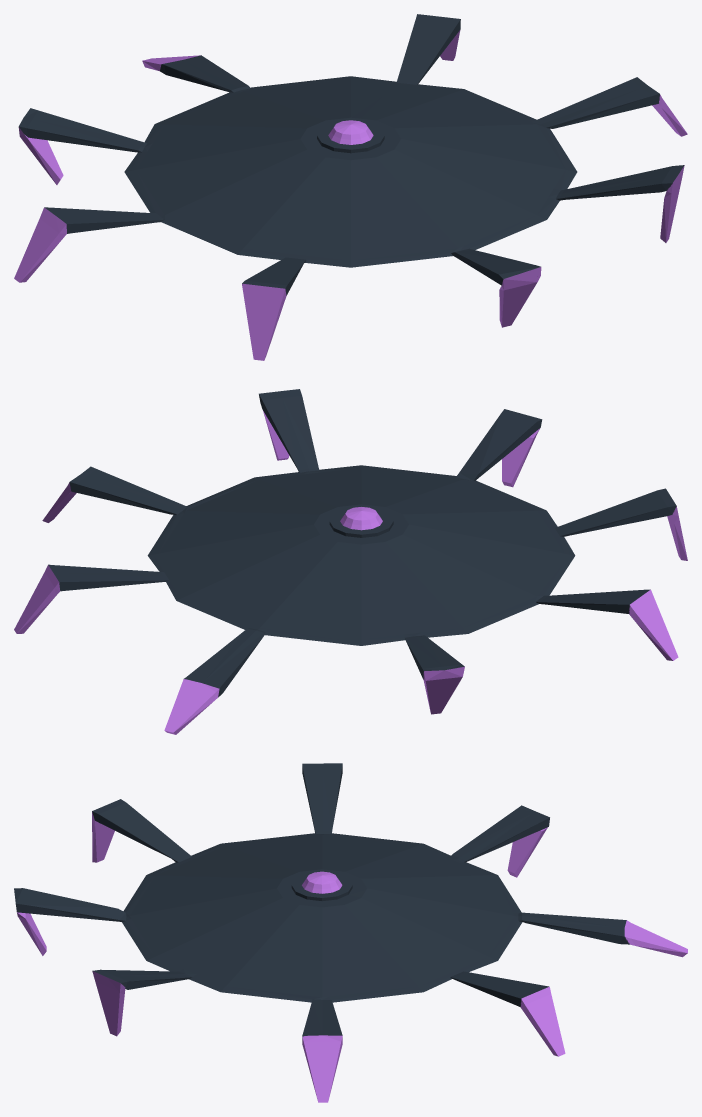
The model's file is Spider_Walk_000012.obj.
The picture shows the model from 3 angles, top to bottom: view 1: azimuth 30°, elevation 25°; view 2: azimuth 150°, elevation 25°; view 3: azimuth 270°, elevation 25°; orthographic projection. The views are drawn at different scales.
Parts seen in each view (by area): view 1: Circle_Circle.001; view 2: Circle_Circle.001; view 3: Circle_Circle.001.
Boxes of the visible parts, <box> form: Circle_Circle.001: <box>14,14,687,360</box>; Circle_Circle.001: <box>14,389,687,734</box>; Circle_Circle.001: <box>14,763,687,1102</box>.
Size of the model in its own units: 3.41 by 0.4461 by 3.32.
